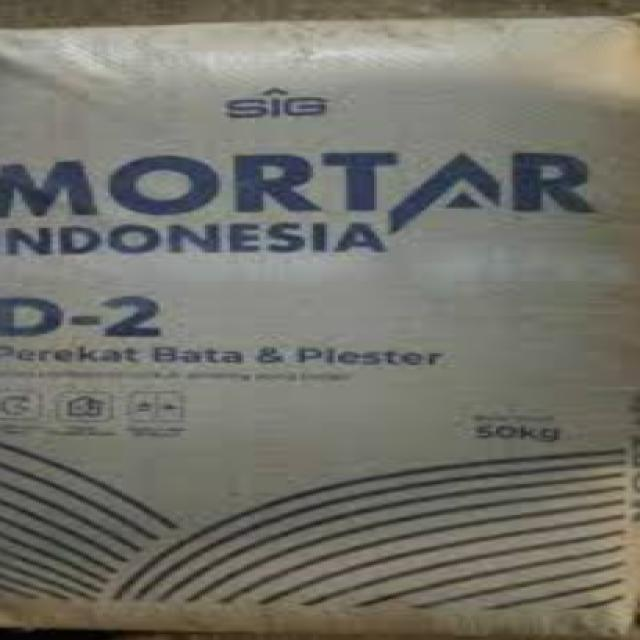KantongSemen: (0, 7, 637, 638)
